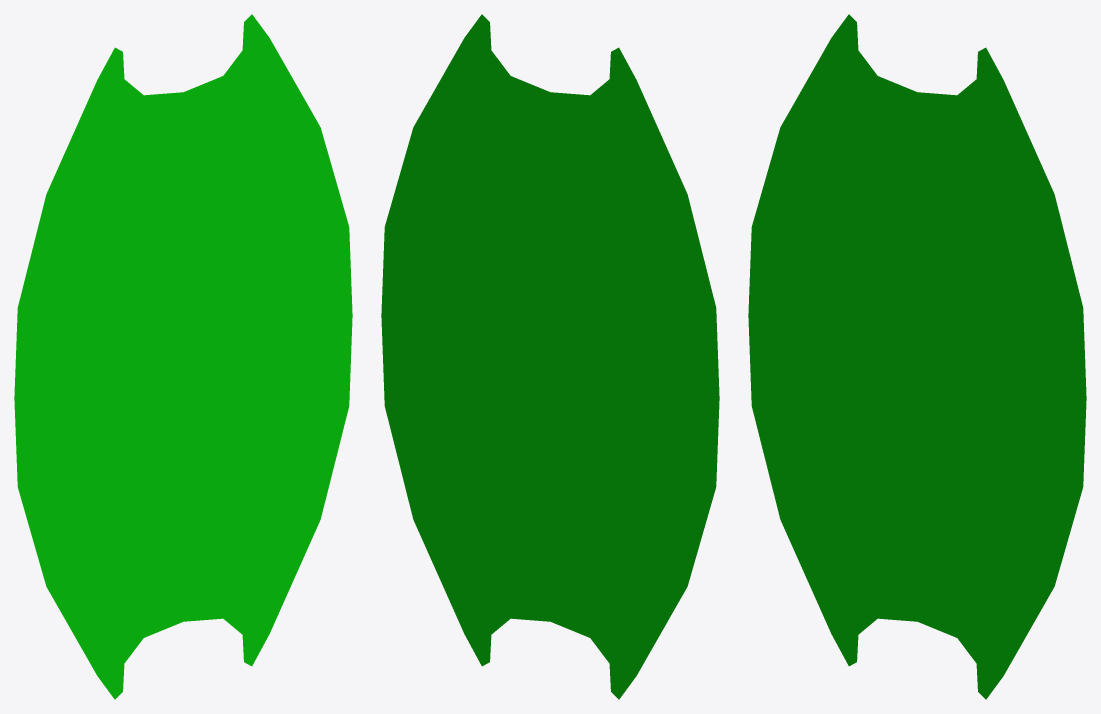
File: oval_06.dae
3 views of the same model, side by side, from view 1: azimuth 30°, elevation 25°; view 2: azimuth 150°, elevation 25°; view 3: azimuth 330°, elevation 25° (orthographic).
Visible parts, largest first — view 1: Oval_06; view 2: Oval_06; view 3: Oval_06.
Boxes of the visible parts, bbox=[...] form: Oval_06: bbox=[14, 14, 352, 699]; Oval_06: bbox=[381, 14, 719, 699]; Oval_06: bbox=[748, 14, 1086, 699].
Bounding box in the file's own units: 1.2 × 0 × 2.21.
